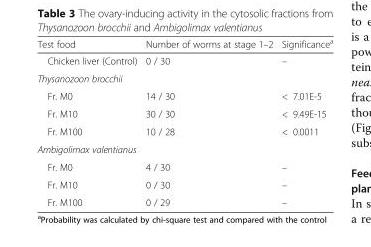table: (36, 36, 332, 207)
table column: (140, 36, 276, 207), (36, 36, 140, 207), (276, 36, 332, 207)
table column header: (36, 36, 332, 52)
table projected row header: (36, 69, 332, 86), (36, 140, 332, 157)
table row: (36, 86, 332, 104), (36, 104, 332, 122), (36, 122, 332, 140), (36, 157, 332, 175), (36, 175, 332, 193), (36, 52, 332, 69), (36, 69, 332, 86), (36, 140, 332, 157), (36, 36, 332, 52), (36, 193, 332, 207)
